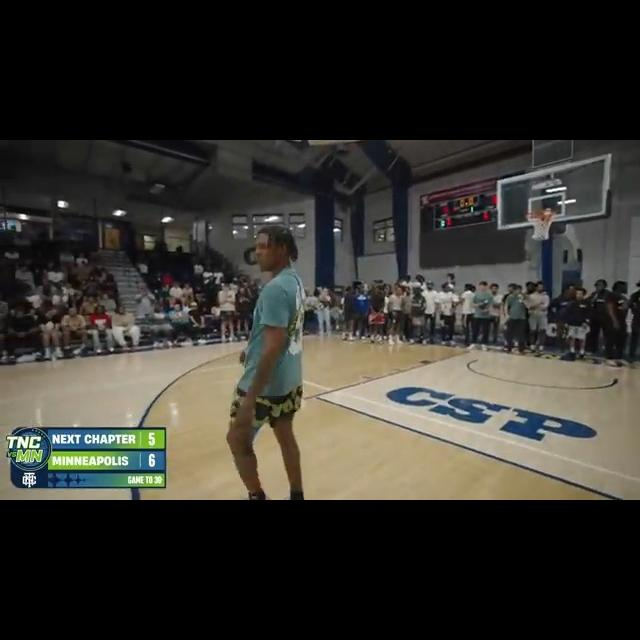hoop: (526, 208, 554, 240)
